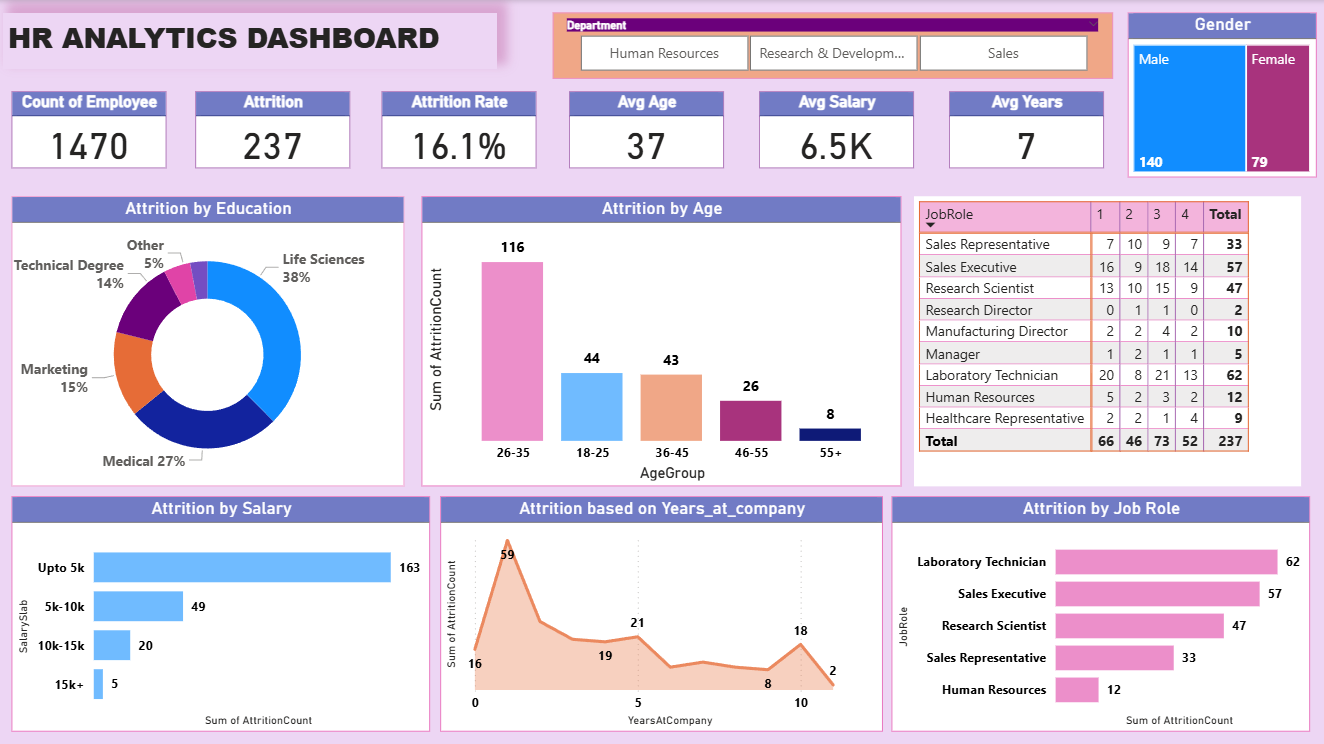

Layout of this report page (visuals, bound fields, positions):
{"tool":"powerbi","page":{"name":"Page 1","canvas":[1280,720],"ordinal":0},"visuals":[{"type":"card","title":"Count of Employee","fields":{"Values":["CountNonNull(HR_Analytics.EmpID)"]},"box":[12.1,88.1,149.6,74.8],"z":0},{"type":"card","title":"Attrition","fields":{"Values":["Sum(HR_Analytics.AttritionCount)"]},"box":[189.4,88.1,149.6,74.8],"z":1000},{"type":"card","title":"Attrition Rate","fields":{"Values":["HR_Analytics.AttritionRate"]},"box":[369.2,88.1,149.6,74.8],"z":2000},{"type":"card","title":"Avg Age","fields":{"Values":["Avg(HR_Analytics.Age)"]},"box":[550.1,88.1,149.6,74.8],"z":3000},{"type":"card","title":"Avg Salary","fields":{"Values":["Avg(HR_Analytics.MonthlyIncome)"]},"box":[733.5,88.1,149.6,74.8],"z":4000},{"type":"card","title":"Avg Years","fields":{"Values":["Avg(HR_Analytics.YearsAtCompany)"]},"box":[916.9,88.1,149.6,74.8],"z":5000},{"type":"donutChart","title":"Attrition by Education","fields":{"Category":["HR_Analytics.EducationField"],"Y":["Sum(HR_Analytics.AttritionCount)"]},"box":[12.1,189.4,378.8,279.9],"z":6000},{"type":"columnChart","title":"Attrition by Age","fields":{"Category":["HR_Analytics.AgeGroup"],"Y":["Sum(HR_Analytics.AttritionCount)"]},"box":[407.8,189.4,463.3,279.9],"z":7000},{"type":"pivotTable","fields":{"Rows":["HR_Analytics.JobRole"],"Columns":["HR_Analytics.JobSatisfaction"],"Values":["Sum(HR_Analytics.AttritionCount)"]},"box":[883.1,189.4,374,279.9],"z":8000},{"type":"barChart","title":"Attrition by Salary","fields":{"Category":["HR_Analytics.SalarySlab"],"Y":["Sum(HR_Analytics.AttritionCount)"]},"box":[12.1,479,404.2,226.8],"z":9000},{"type":"barChart","title":"Attrition by Job Role","fields":{"Y":["Sum(HR_Analytics.AttritionCount)"],"Category":["HR_Analytics.JobRole"]},"box":[861.4,479,404.2,226.8],"z":10000},{"type":"areaChart","title":"Attrition based on Years_at_company","fields":{"Category":["HR_Analytics.YearsAtCompany"],"Y":["Sum(HR_Analytics.AttritionCount)"]},"box":[425.9,479,427.1,226.8],"z":11000},{"type":"treemap","title":"Gender","fields":{"Group":["HR_Analytics.Gender"],"Values":["Sum(HR_Analytics.AttritionCount)"]},"box":[1089.4,12.1,182.2,159.3],"z":12000},{"type":"textbox","box":[3.6,12.1,476.5,54.3],"z":13000},{"type":"slicer","fields":{"Values":["HR_Analytics.Department"]},"box":[534.5,12.1,540.5,63.9],"z":14000}]}

Visuals, with their boxes in screenshot pixels (x1, y1, x2, y2), scaled from the page's 1280x720 canvas onto the 1324x744 screenshot:
"Count of Employee" card: <region>13, 91, 167, 168</region>
"Attrition" card: <region>196, 91, 351, 168</region>
"Attrition Rate" card: <region>382, 91, 537, 168</region>
"Avg Age" card: <region>569, 91, 724, 168</region>
"Avg Salary" card: <region>759, 91, 913, 168</region>
"Avg Years" card: <region>948, 91, 1103, 168</region>
"Attrition by Education" donutChart: <region>13, 196, 404, 485</region>
"Attrition by Age" columnChart: <region>422, 196, 901, 485</region>
pivotTable - HR_Analytics.JobRole x HR_Analytics.JobSatisfaction: <region>913, 196, 1300, 485</region>
"Attrition by Salary" barChart: <region>13, 495, 431, 729</region>
"Attrition by Job Role" barChart: <region>891, 495, 1309, 729</region>
"Attrition based on Years_at_company" areaChart: <region>441, 495, 882, 729</region>
"Gender" treemap: <region>1127, 13, 1315, 177</region>
textbox: <region>4, 13, 497, 69</region>
slicer - HR_Analytics.Department: <region>553, 13, 1112, 79</region>
